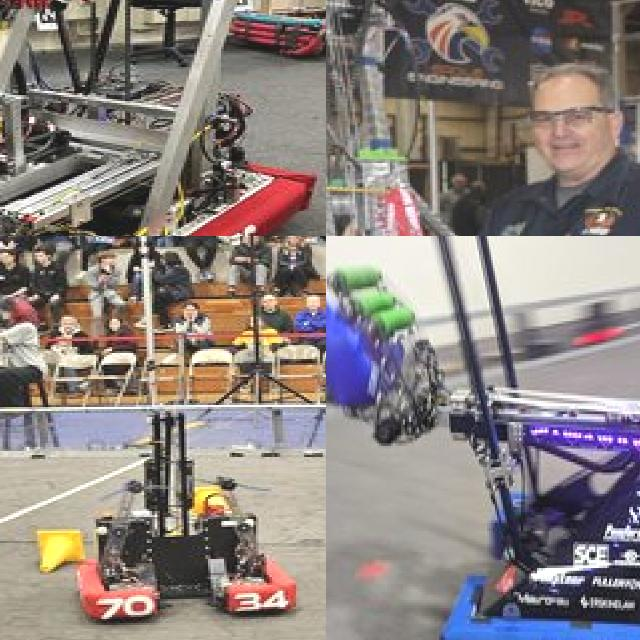FRC-Robots: (387, 236, 640, 640), (0, 0, 326, 236), (326, 0, 640, 236), (19, 393, 314, 629)
